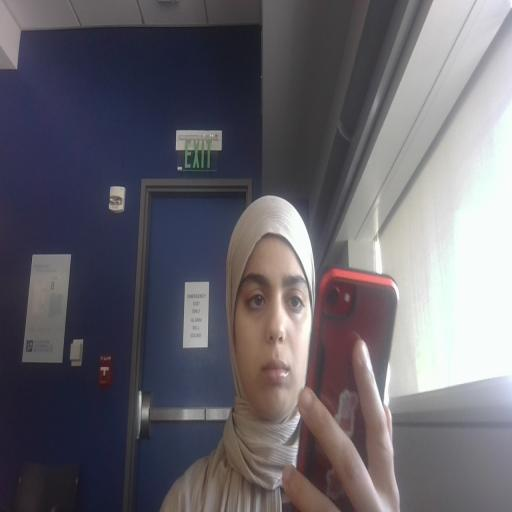phone: (307, 266, 434, 512)
